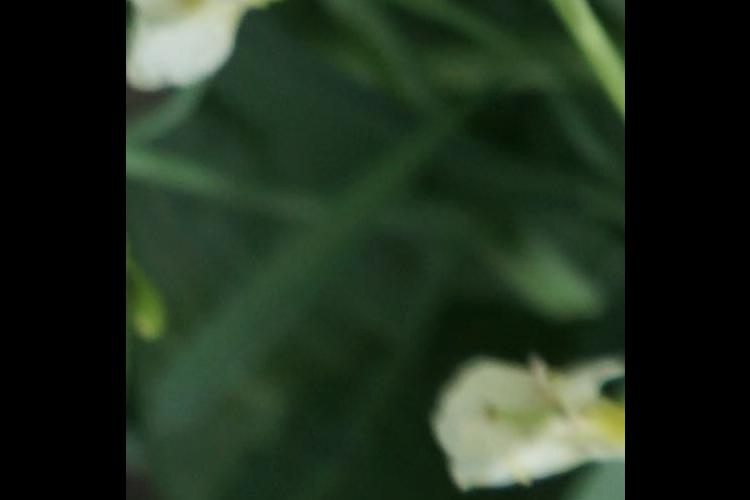white: (423, 349, 613, 500), (133, 1, 318, 95)
